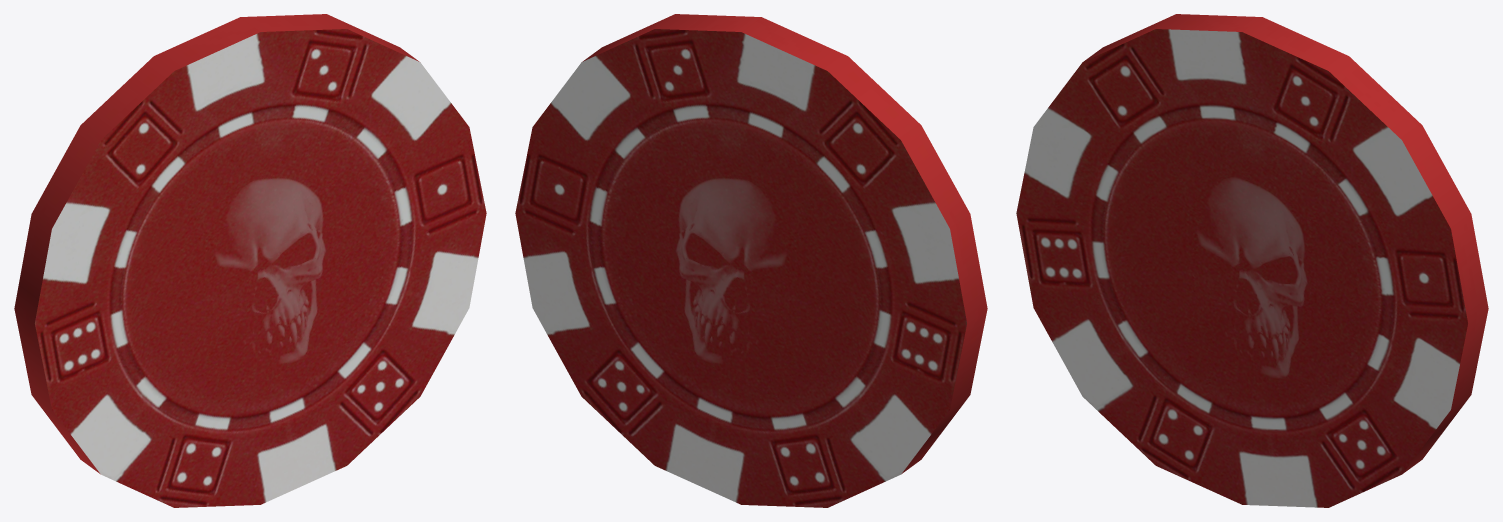
Rendered from poker_chip.glb.
The picture shows the model from 3 angles, left to right: view 1: azimuth 30°, elevation 25°; view 2: azimuth 150°, elevation 25°; view 3: azimuth 330°, elevation 25°; orthographic projection.
Parts seen in each view (by area): view 1: pokerchip.001; view 2: pokerchip.001; view 3: pokerchip.001.
Boxes of the visible parts, box(x1,y1,x2,y2) form: pokerchip.001: box(14, 14, 486, 507); pokerchip.001: box(515, 14, 987, 507); pokerchip.001: box(1016, 14, 1488, 507).
Size of the model in its own units: 186 by 186 by 14.58.
1 material, 1 textured.
